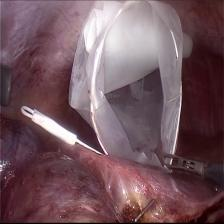Grasper: (161, 150, 205, 178)
Specimen Bag: (67, 0, 184, 182)
